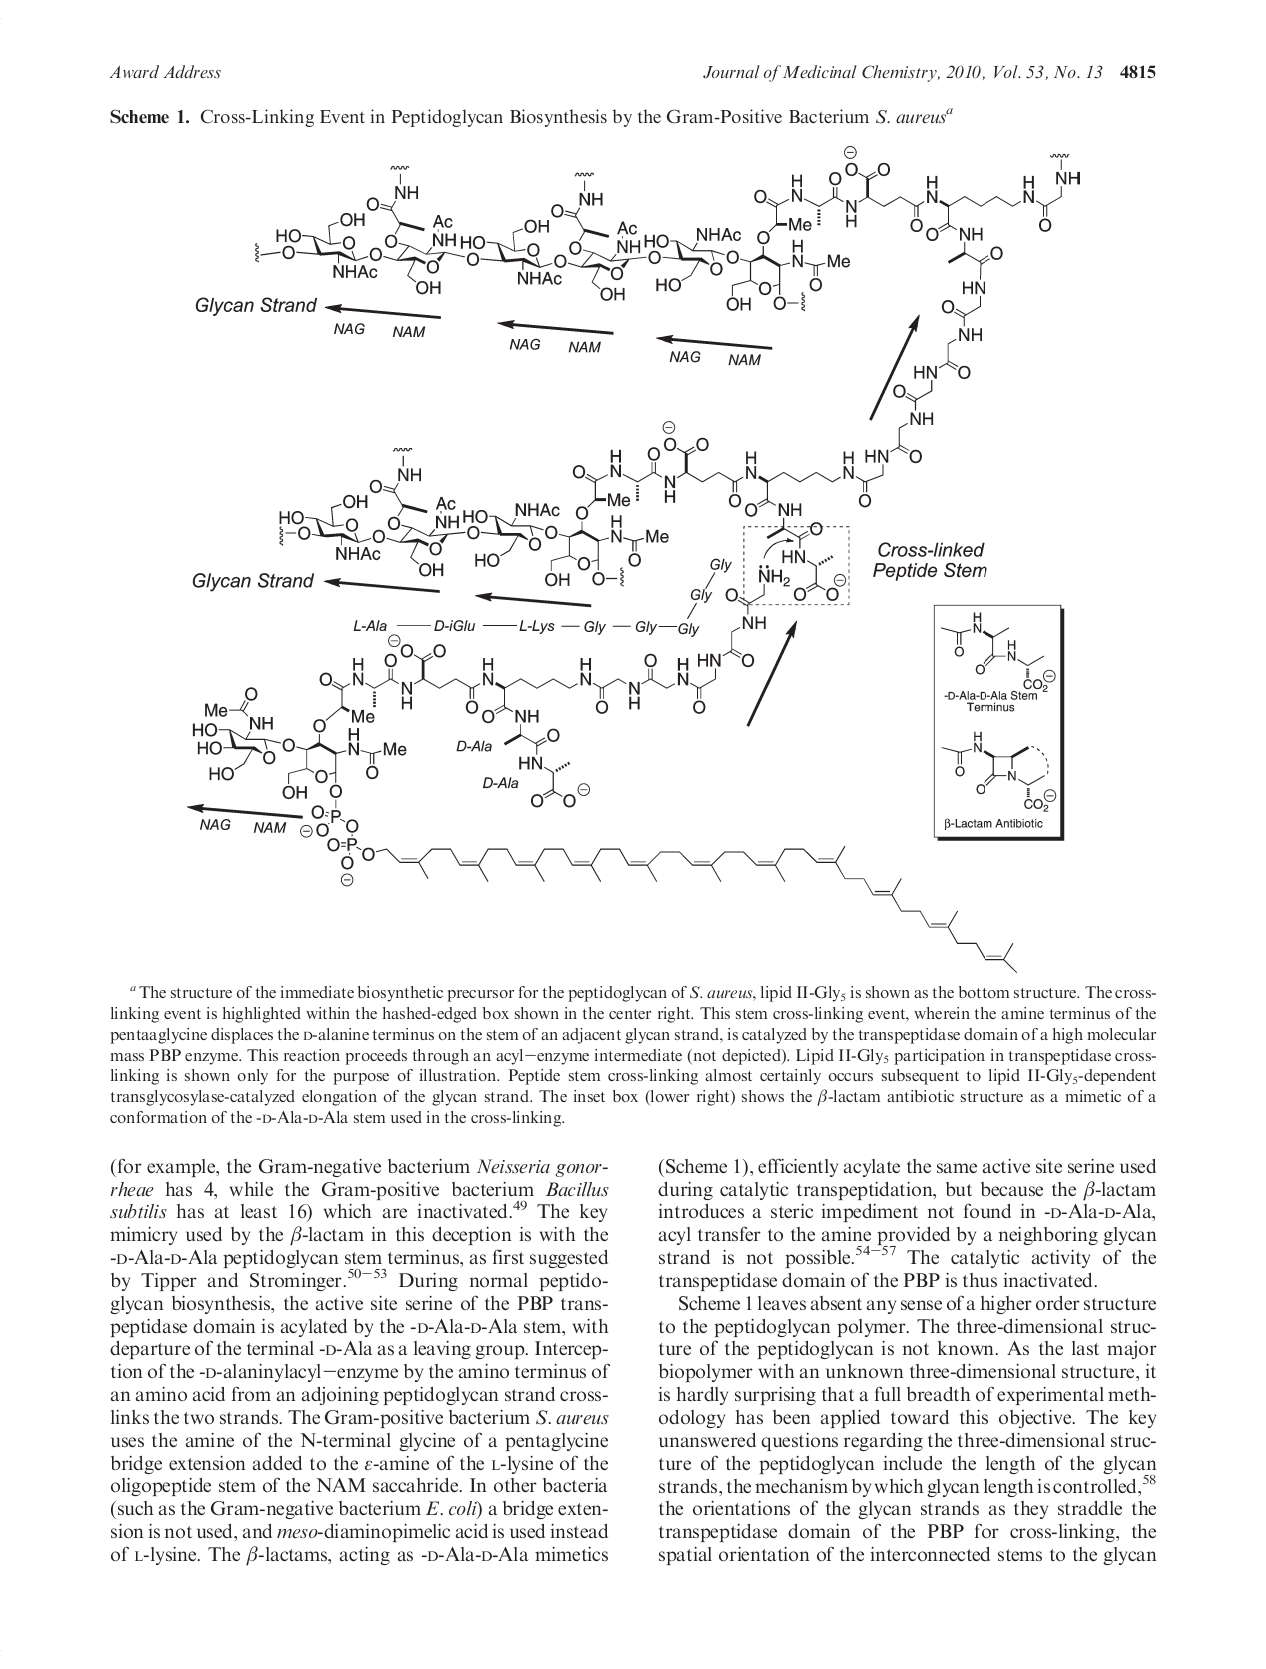exist_molecular: (188, 148, 1082, 977), (939, 608, 1056, 696), (940, 731, 1056, 810)
